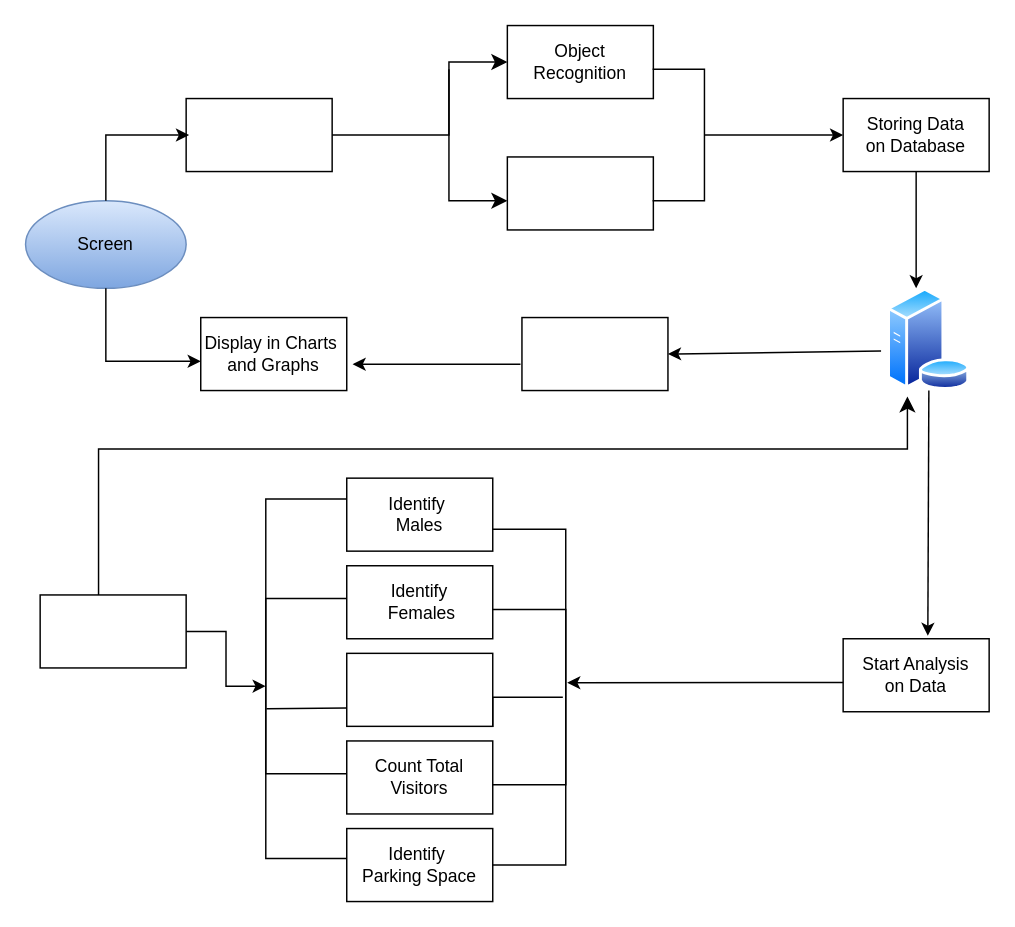
Some shapes in this 1015 by 927 pixel diagram are drawn without their labels. Each missing label, with the centre of its shape:
Capture Frames: the point at 258,134
Create Charts: the point at 594,353
Identify Theft: the point at 419,689
People Tracking: the point at 579,192
Store Analysed Data in Database: the point at 112,630
